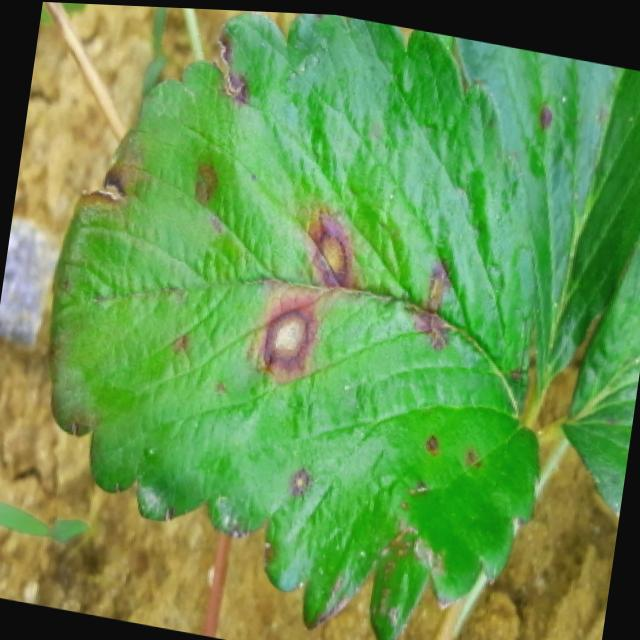Leaf Spot: (46, 8, 543, 640), (448, 30, 640, 399)
